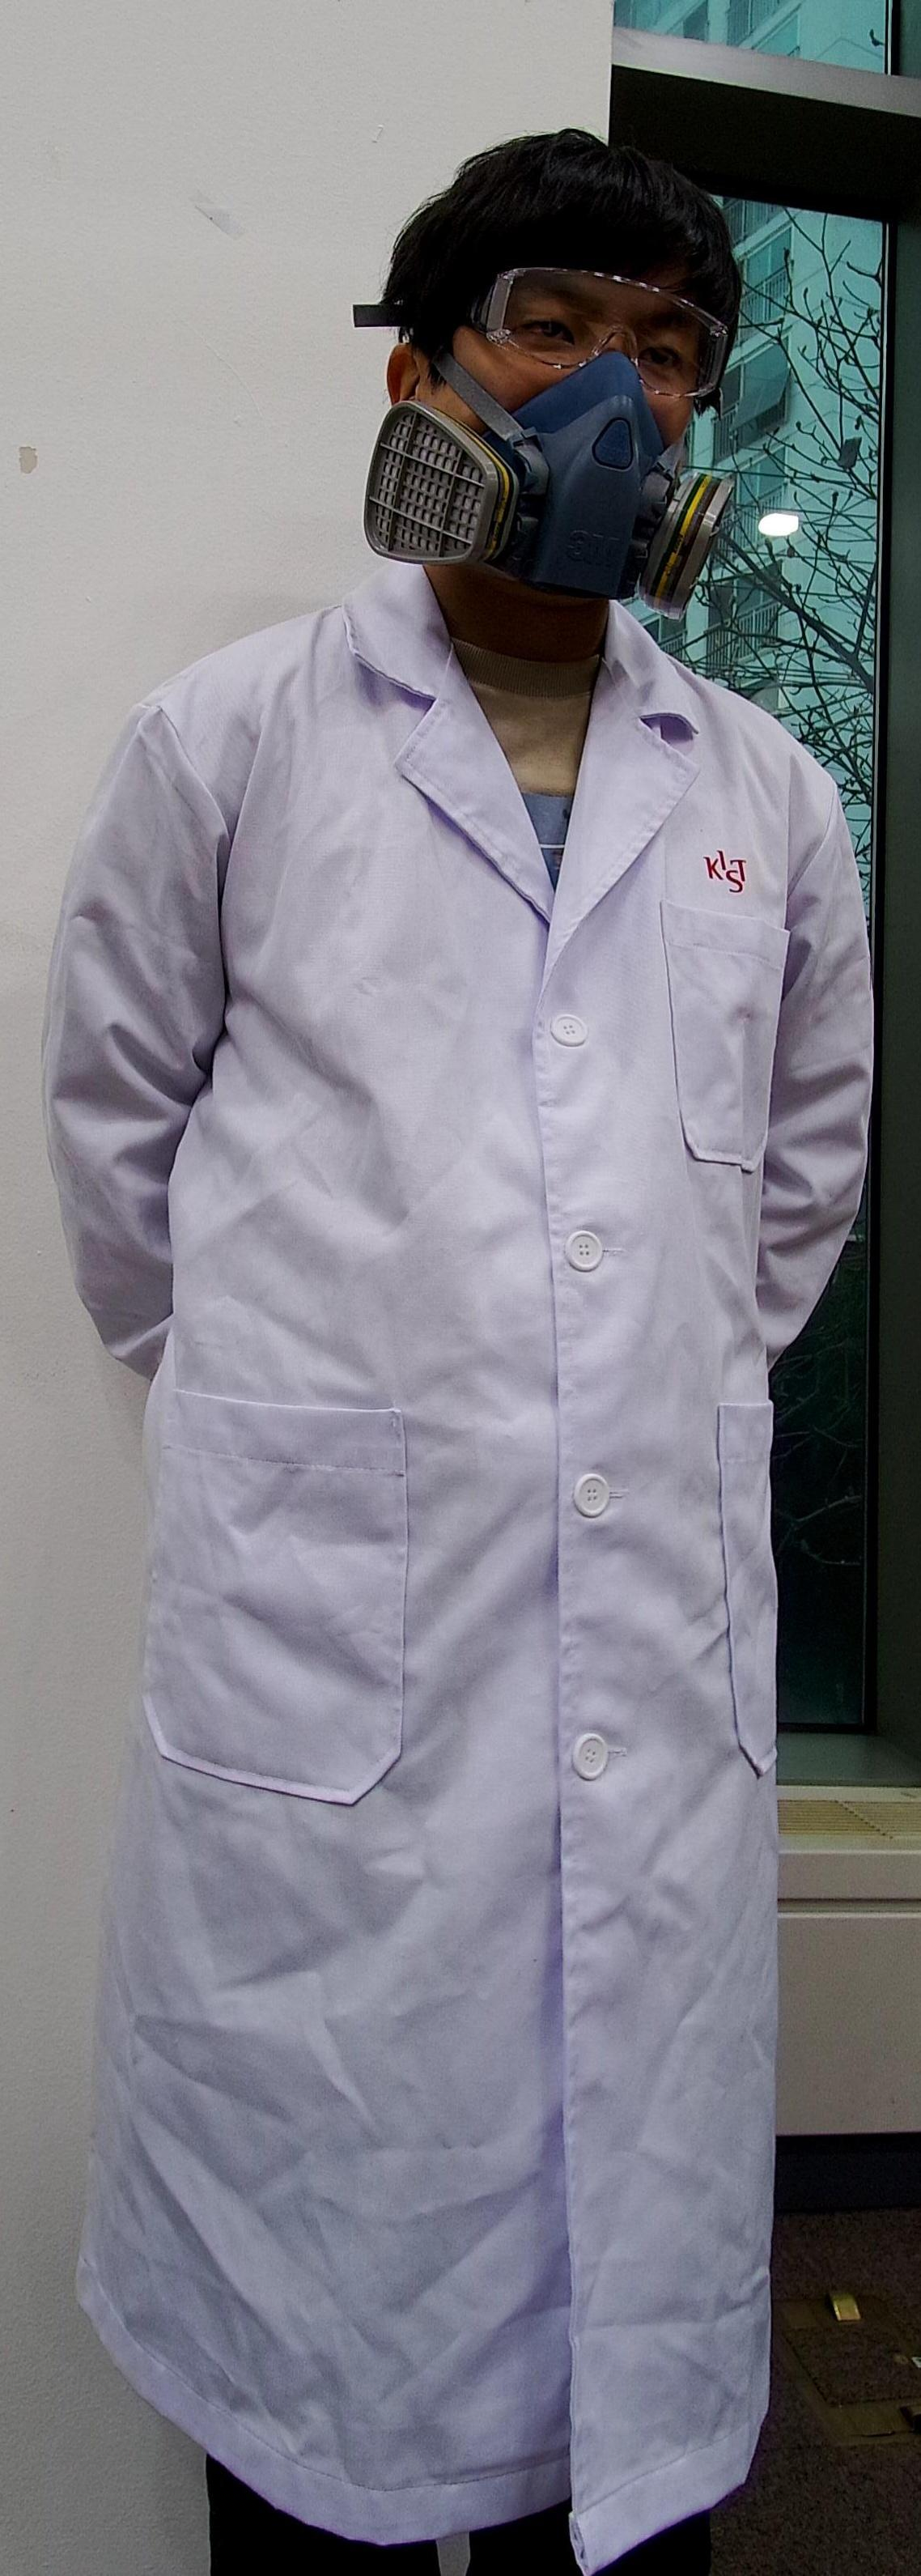lab_coat: (46, 657, 890, 2561)
